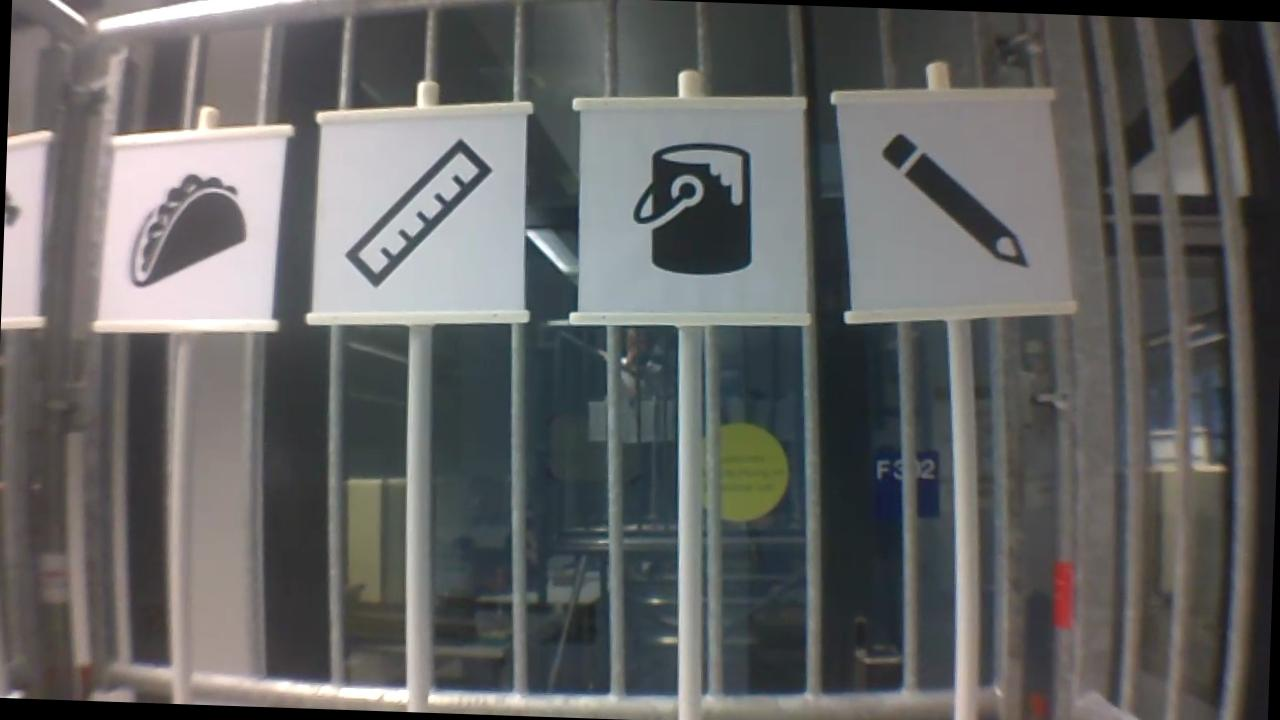bucket: (624, 138, 759, 279)
pencil: (872, 130, 1039, 279)
ruler: (332, 128, 501, 294)
taco: (123, 166, 253, 296)
